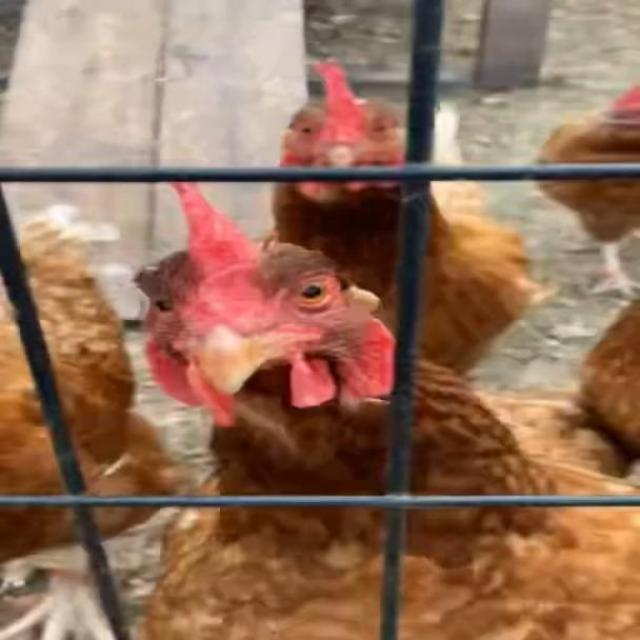Chicken: (139, 180, 640, 640), (270, 60, 536, 376), (0, 205, 184, 640), (532, 82, 640, 301), (573, 296, 640, 458)
